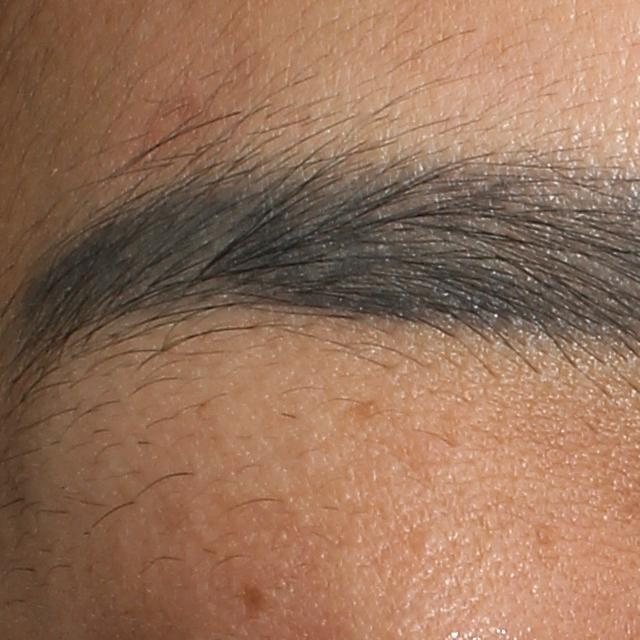comedo: (410, 525, 444, 558)
melasma: (241, 584, 263, 622)
